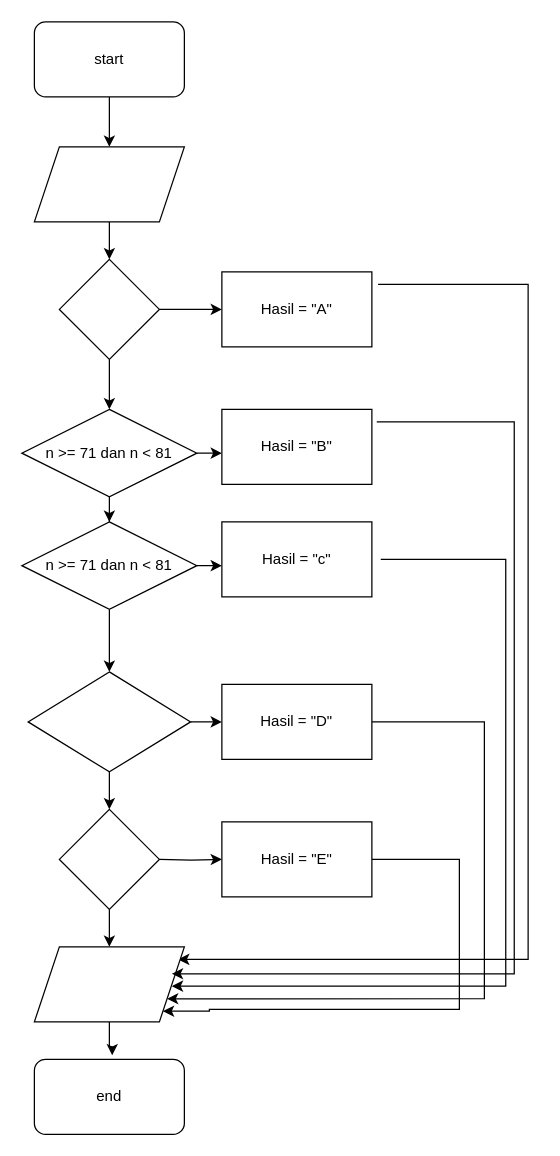
Some shapes in this 560 by 1156 pixel diagram are drawn without their labels. The centre of each missing label's shape, as x and y in pixels:
"input nilai (n)" belongs at (x=108, y=184).
"n <= 60" belongs at (x=108, y=858).
"n >= 61 dan n < 71" belongs at (x=109, y=721).
"n >= 91" belongs at (x=108, y=308).
"output Hasil" belongs at (x=108, y=984).
